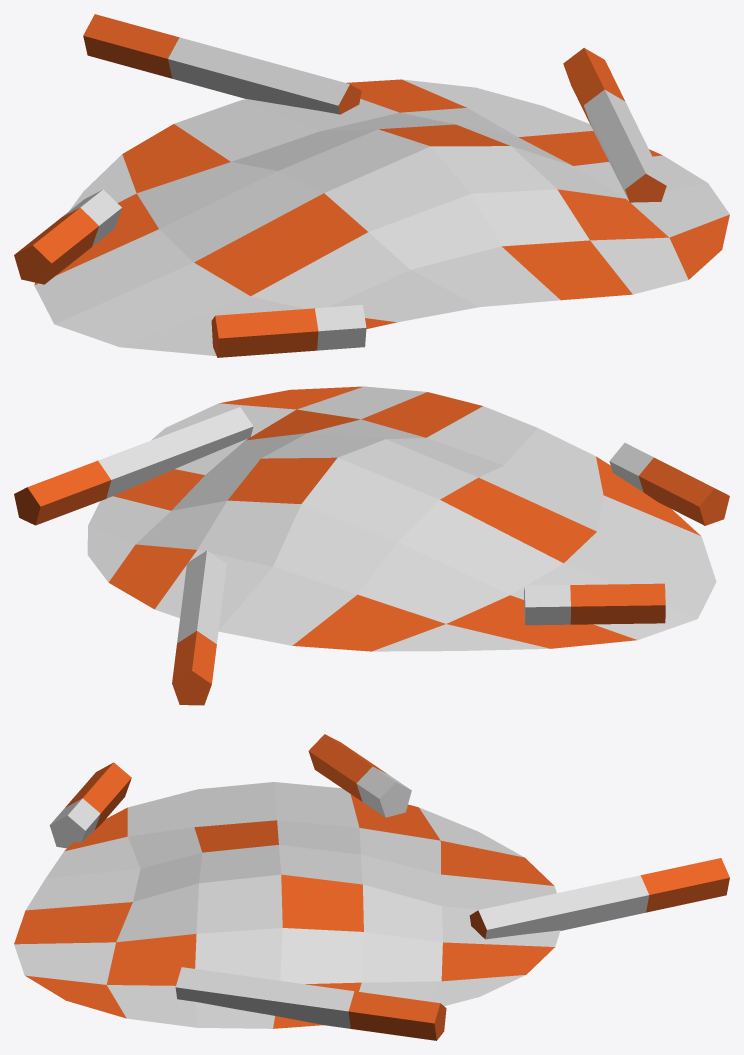
The model's file is Sigara.fbx.
3 views of the same model, one above another, from view 1: azimuth 30°, elevation 25°; view 2: azimuth 150°, elevation 25°; view 3: azimuth 270°, elevation 25° (orthographic). The views are drawn at different scales.
Visible parts, largest first — view 1: Plane, Cylinder.003, Cylinder.006, Cylinder.004, Cylinder.005; view 2: Plane, Cylinder.006, Cylinder.003, Cylinder.005, Cylinder.004; view 3: Plane, Cylinder.006, Cylinder.003, Cylinder.005, Cylinder.004.
Boxes of the visible parts, box(x1,y1,x2,y2) form: Plane: box(34, 79, 729, 355); Cylinder.003: box(83, 14, 361, 114); Cylinder.006: box(563, 48, 666, 202); Cylinder.004: box(211, 305, 366, 357); Cylinder.005: box(14, 189, 121, 284); Plane: box(87, 386, 716, 651); Cylinder.006: box(14, 407, 253, 525); Cylinder.003: box(172, 550, 226, 705); Cylinder.005: box(524, 583, 665, 625); Cylinder.004: box(609, 443, 729, 525); Plane: box(14, 782, 560, 1028); Cylinder.006: box(175, 967, 446, 1040); Cylinder.003: box(469, 858, 729, 939); Cylinder.005: box(308, 734, 411, 817); Cylinder.004: box(49, 762, 131, 848).
Bounding box in the file's own units: 130 × 15.87 × 140.
